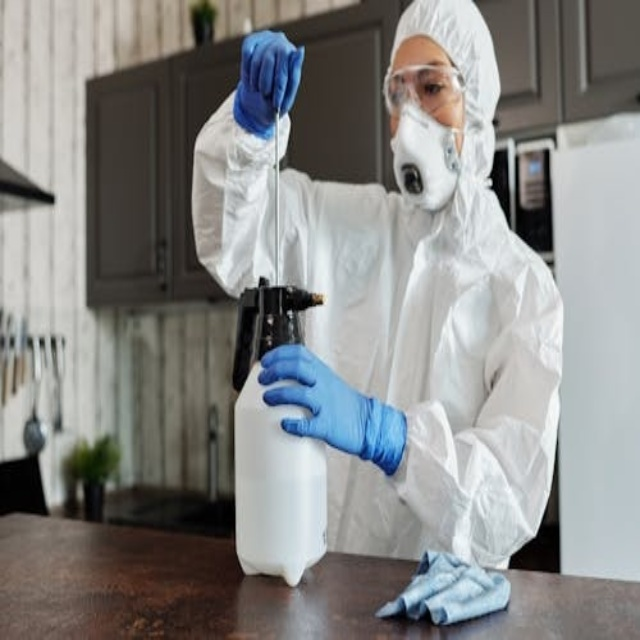Gafas: (384, 64, 467, 116)
Guantes: (256, 331, 408, 481), (234, 21, 306, 140)
Mascara: (391, 104, 464, 213)
